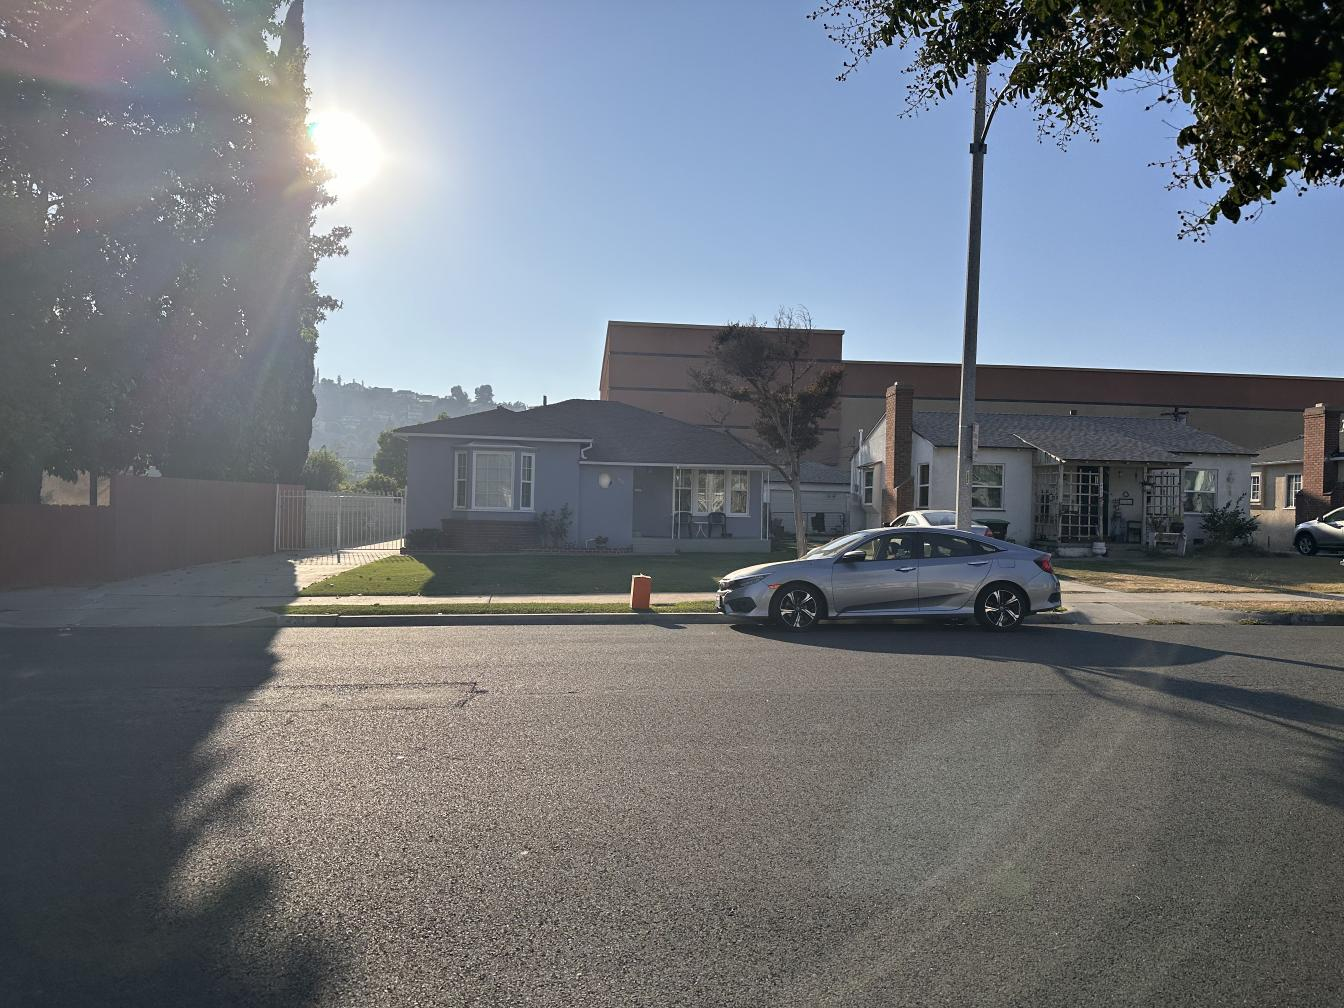curbs-laRr: (280, 612, 719, 626)
orange box: (633, 576, 653, 611)
